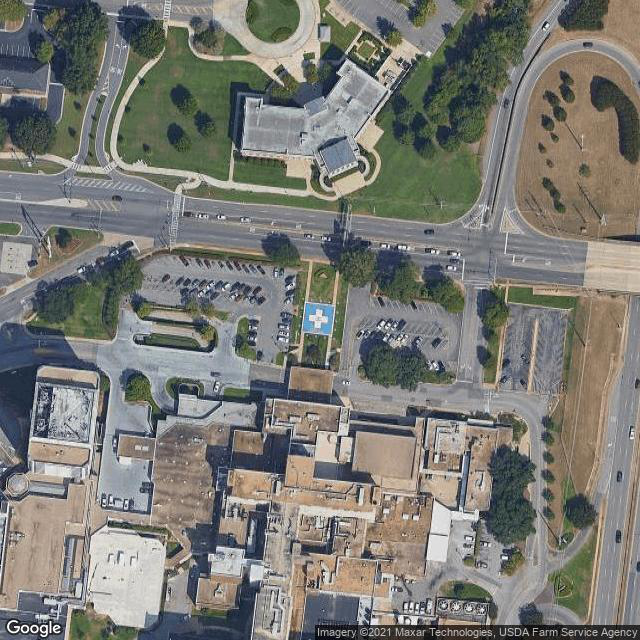Helipad: (299, 300, 337, 337)
